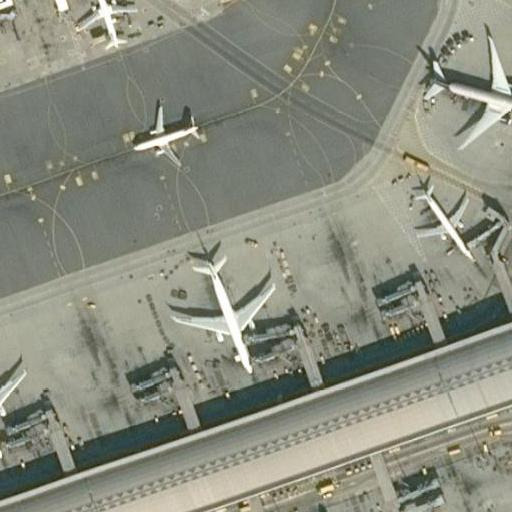Aircraft: (166, 245, 276, 375), (423, 32, 512, 146), (409, 177, 484, 262), (125, 94, 207, 168), (0, 325, 29, 461), (73, 0, 138, 50), (285, 510, 404, 512)
